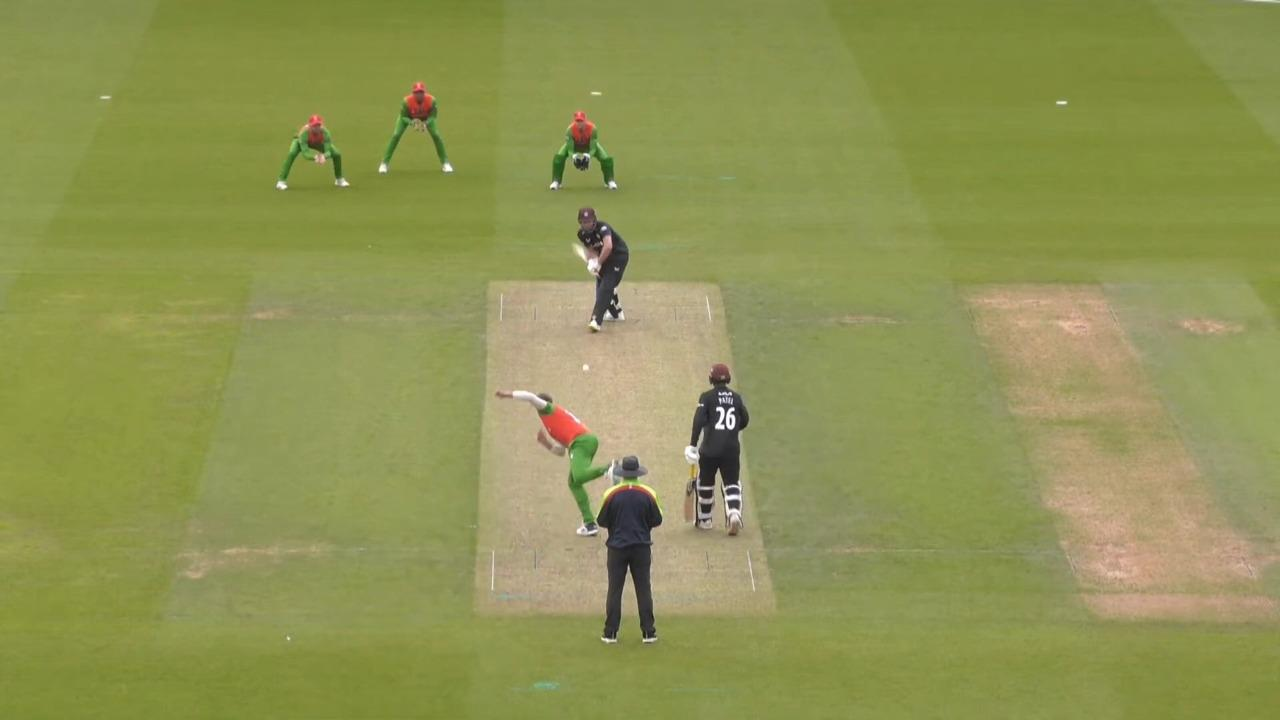sports ball: (583, 364, 589, 370)
